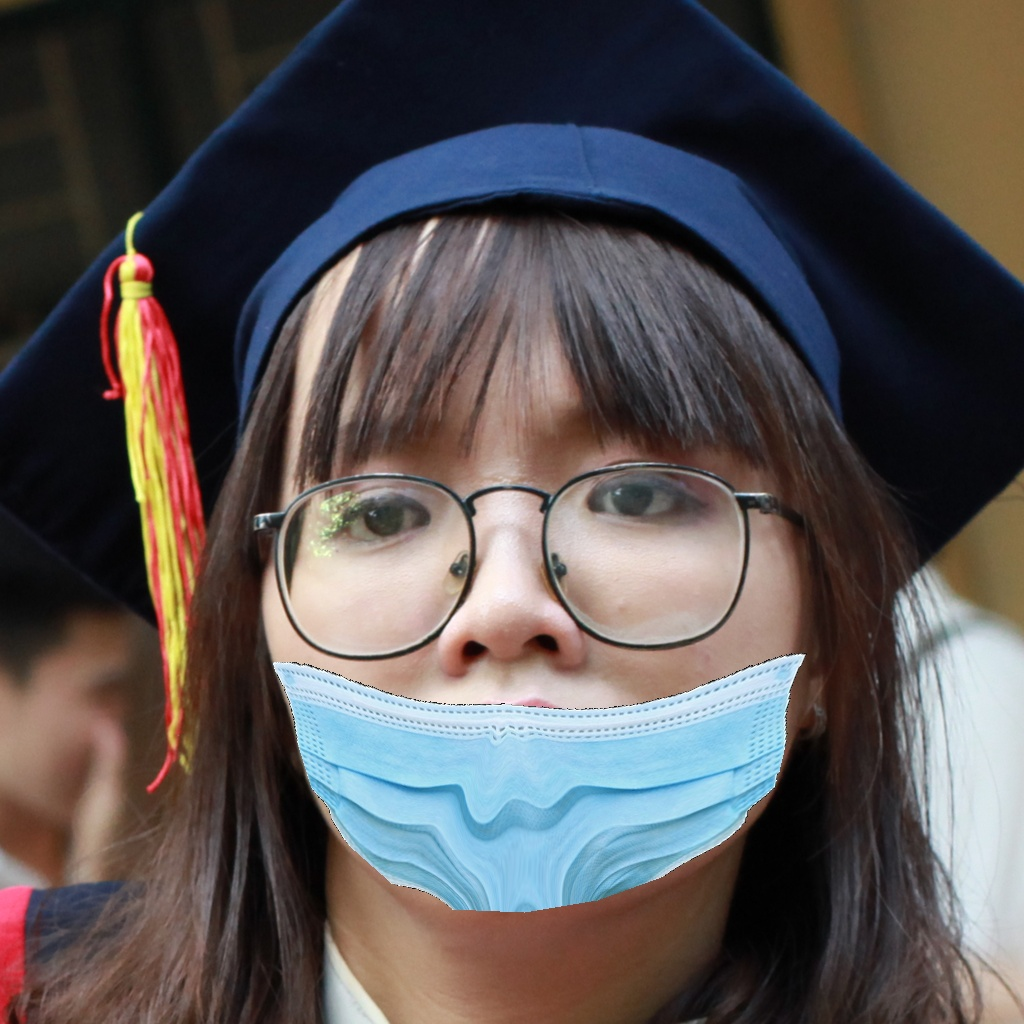mask_weared_incorrect: (264, 409, 798, 919)
